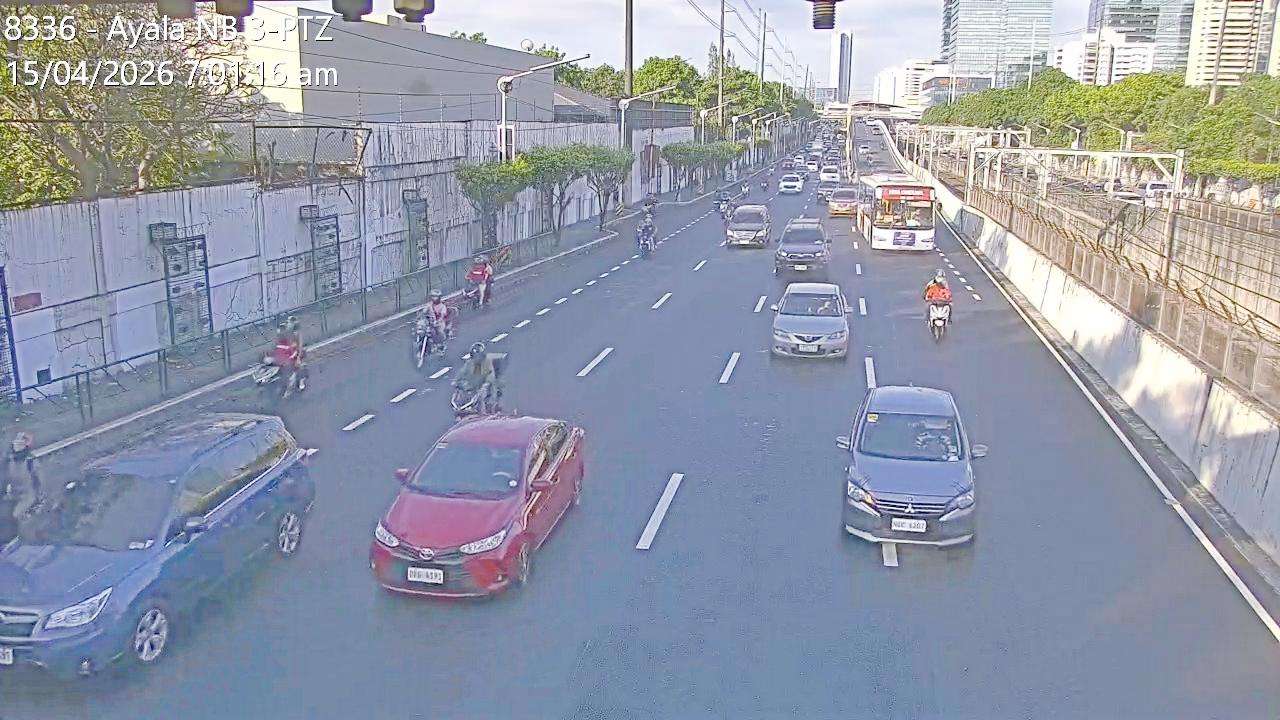Car: (1, 414, 315, 679), (366, 410, 585, 596), (837, 381, 984, 549), (766, 279, 851, 361), (774, 215, 833, 275), (724, 202, 773, 248), (830, 185, 860, 218), (777, 172, 805, 194)
Motor: (6, 433, 51, 528), (453, 346, 507, 418), (255, 341, 310, 406), (408, 303, 454, 370), (458, 253, 492, 318), (921, 286, 953, 341), (638, 217, 658, 255), (719, 192, 730, 216)
Not Accident: (8, 415, 291, 679), (375, 340, 581, 604), (771, 221, 852, 366)
